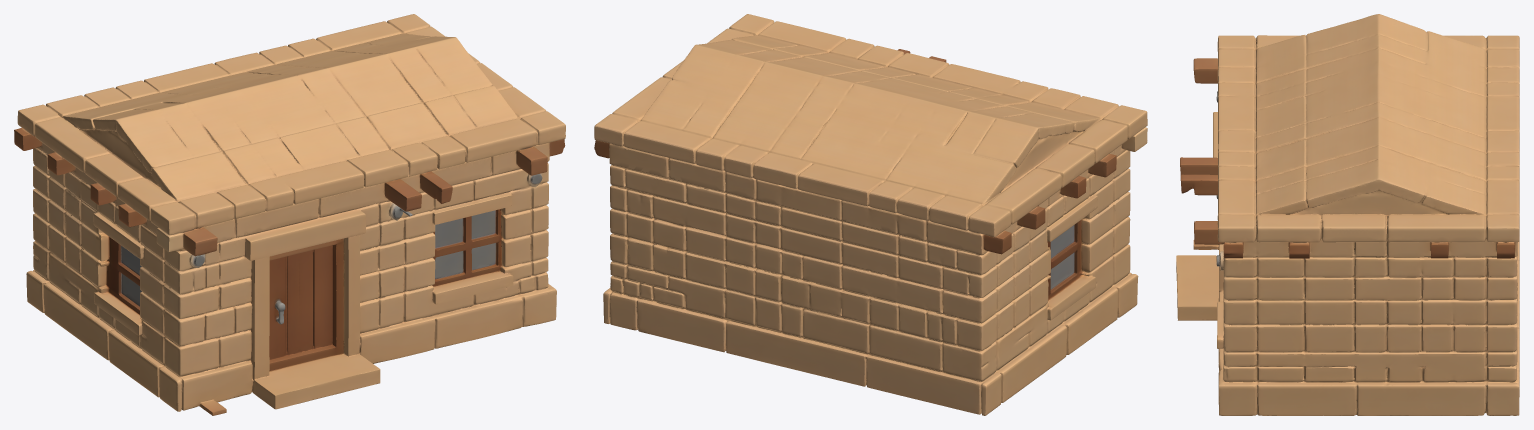
File: ENV_HOUSE_01.glb
3 views of the same model, side by side, from view 1: azimuth 30°, elevation 25°; view 2: azimuth 150°, elevation 25°; view 3: azimuth 270°, elevation 25° (orthographic).
Parts seen in each view (by area): view 1: model; view 2: model; view 3: model.
Boxes of the visible parts, x1,y1,x2,y2 form: model: (14, 14, 565, 415); model: (594, 14, 1147, 415); model: (1176, 14, 1519, 415).
Bounding box in the file's own units: 1.78 × 0.9634 × 1.31.
Materials: 1 (1 with a texture image).
